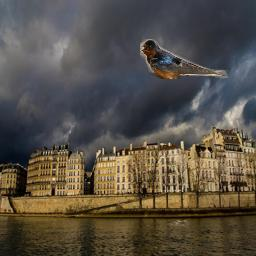Swallow: (140, 39, 228, 79)
